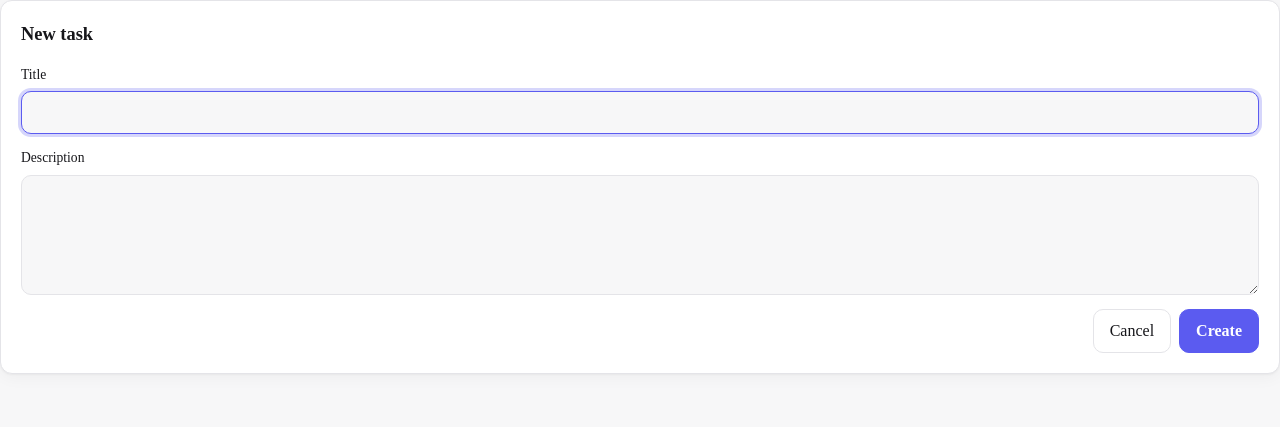
Create task flow › database failure → friendly error with input kept, retry succeeds
In the field with test id "title-input": (640, 113) [21,91,1259,134], type "Flaky save"
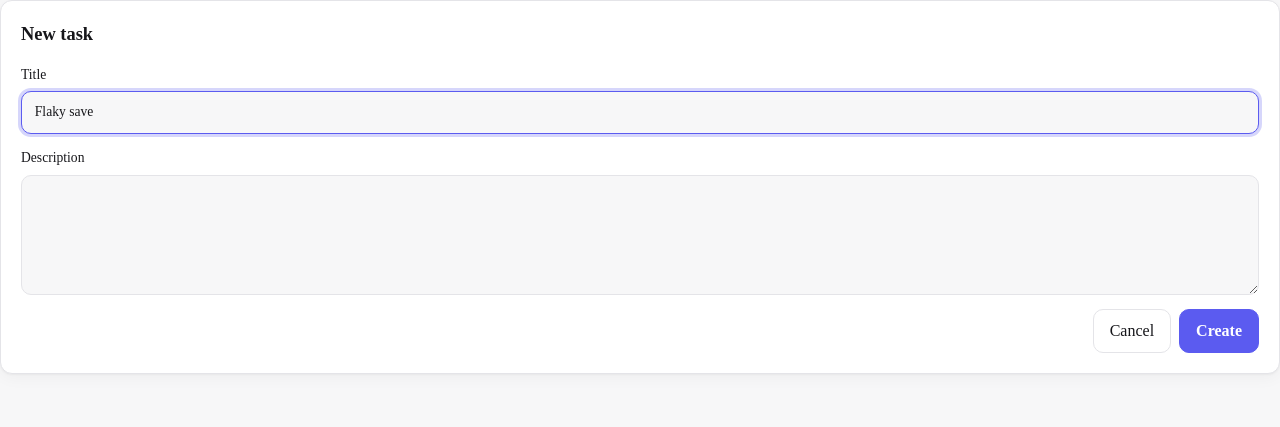
Click the button with test id "submit": (1219, 331) [1179,309,1259,353]
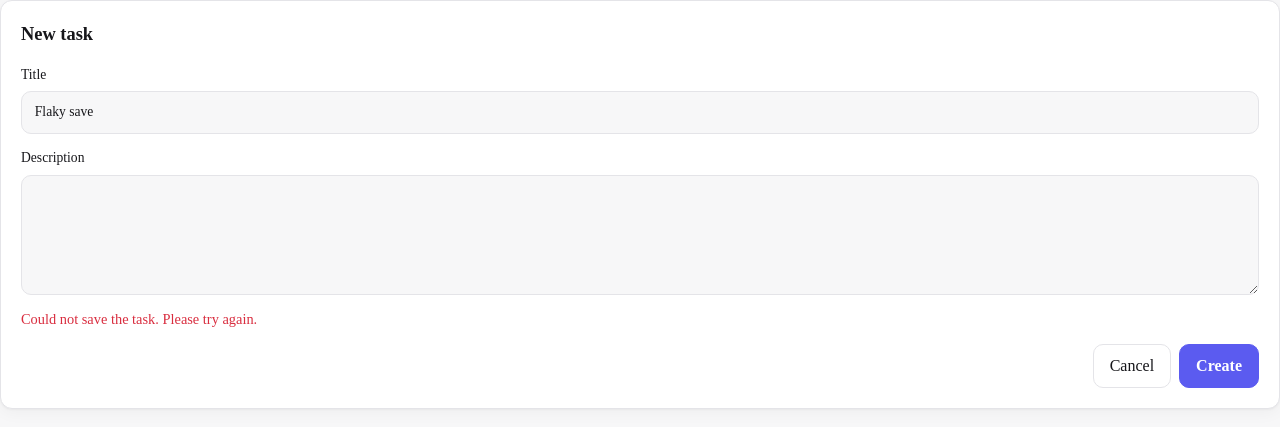
Check: the message with test id "form-error" reads "Could not save the task. Please try again.", box [21,311,257,327]
Click the button with test id "submit": (1219, 366) [1179,344,1259,388]
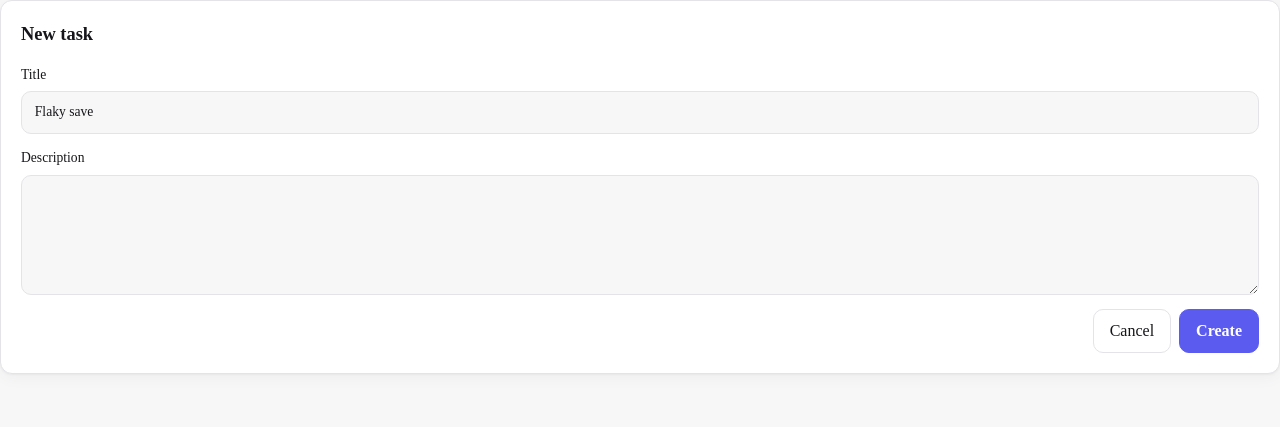
Check: the message with test id "form-error" is gone
